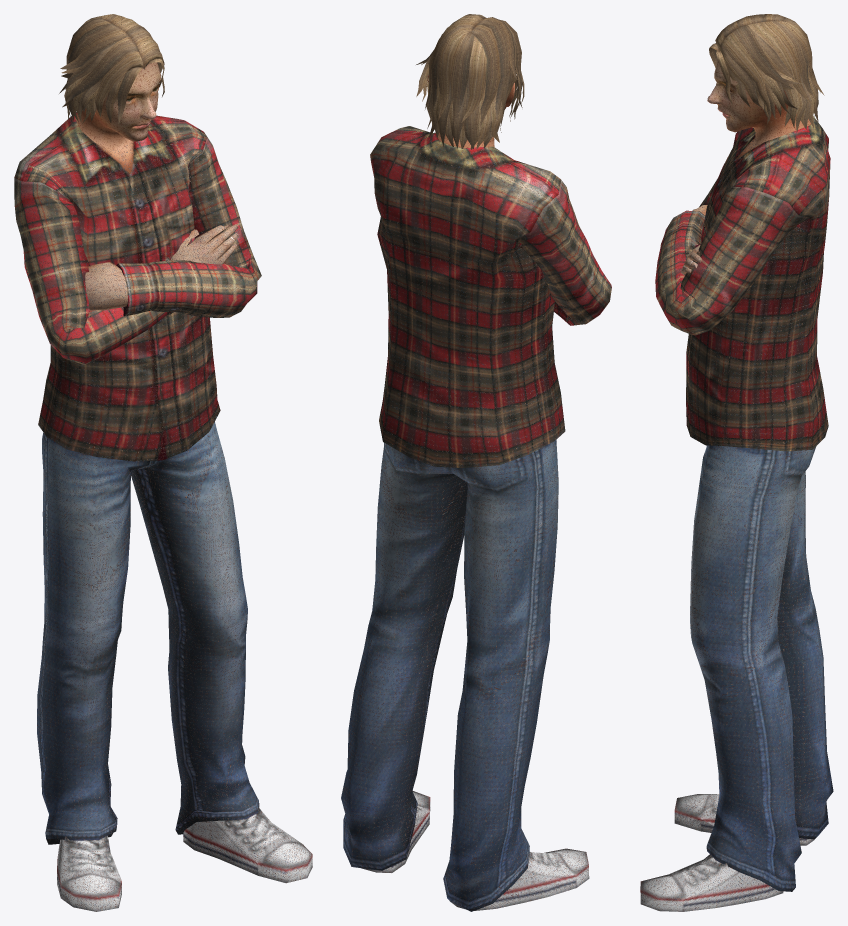
Rendered from male3.obj.
3 views of the same model, side by side, from view 1: azimuth 30°, elevation 25°; view 2: azimuth 150°, elevation 25°; view 3: azimuth 270°, elevation 25° (orthographic). The views are drawn at different scales.
Parts seen in each view (by area): view 1: Extras_Male:Mesh2 Extras_Male:Model Extras_Male:Object01_1 Extra, Extras_Male:Mesh3 Extras_Male:Model Extras_Male:Object01_1 Extra, Extras_Male:Mesh1 Extras_Male:Model Extras_Male:Object01_1 Extra, Extras_Male:Mesh50 Extras_Male:Model Extras_Male:Object01_1 Extr, Extras_Male:Mesh4 Extras_Male:Model Extras_Male:Object01_1 Extra, Extras_Male:Mesh6 Extras_Male:Model Extras_Male:Object01_1 Extra, Extras_Male:Mesh5 Extras_Male:Model Extras_Male:Object01_1 Extra, Extras_Male:Mesh12 Extras_Male:Model Extras_Male:Object01_1 Extr; view 2: Extras_Male:Mesh3 Extras_Male:Model Extras_Male:Object01_1 Extra, Extras_Male:Mesh2 Extras_Male:Model Extras_Male:Object01_1 Extra, Extras_Male:Mesh50 Extras_Male:Model Extras_Male:Object01_1 Extr, Extras_Male:Mesh4 Extras_Male:Model Extras_Male:Object01_1 Extra, Extras_Male:Mesh1 Extras_Male:Model Extras_Male:Object01_1 Extra, Extras_Male:Mesh33 Extras_Male:Model Extras_Male:Object01_1 Extr; view 3: Extras_Male:Mesh3 Extras_Male:Model Extras_Male:Object01_1 Extra, Extras_Male:Mesh2 Extras_Male:Model Extras_Male:Object01_1 Extra, Extras_Male:Mesh50 Extras_Male:Model Extras_Male:Object01_1 Extr, Extras_Male:Mesh1 Extras_Male:Model Extras_Male:Object01_1 Extra, Extras_Male:Mesh4 Extras_Male:Model Extras_Male:Object01_1 Extra, Extras_Male:Mesh12 Extras_Male:Model Extras_Male:Object01_1 Extr.
Part boxes in pixels (x1=…): Extras_Male:Mesh2 Extras_Male:Model Extras_Male:Object01_1 Extra: x1=14, y1=62, x2=261, y2=461; Extras_Male:Mesh3 Extras_Male:Model Extras_Male:Object01_1 Extra: x1=37, y1=422, x2=259, y2=844; Extras_Male:Mesh1 Extras_Male:Model Extras_Male:Object01_1 Extra: x1=183, y1=807, x2=312, y2=883; Extras_Male:Mesh50 Extras_Male:Model Extras_Male:Object01_1 Extr: x1=59, y1=14, x2=164, y2=116; Extras_Male:Mesh4 Extras_Male:Model Extras_Male:Object01_1 Extra: x1=57, y1=835, x2=121, y2=911; Extras_Male:Mesh6 Extras_Male:Model Extras_Male:Object01_1 Extra: x1=171, y1=224, x2=238, y2=264; Extras_Male:Mesh5 Extras_Male:Model Extras_Male:Object01_1 Extra: x1=85, y1=262, x2=127, y2=310; Extras_Male:Mesh12 Extras_Male:Model Extras_Male:Object01_1 Extr: x1=117, y1=58, x2=164, y2=123; Extras_Male:Mesh3 Extras_Male:Model Extras_Male:Object01_1 Extra: x1=341, y1=440, x2=558, y2=911; Extras_Male:Mesh2 Extras_Male:Model Extras_Male:Object01_1 Extra: x1=370, y1=53, x2=611, y2=467; Extras_Male:Mesh50 Extras_Male:Model Extras_Male:Object01_1 Extr: x1=416, y1=14, x2=522, y2=126; Extras_Male:Mesh4 Extras_Male:Model Extras_Male:Object01_1 Extra: x1=450, y1=848, x2=589, y2=910; Extras_Male:Mesh1 Extras_Male:Model Extras_Male:Object01_1 Extra: x1=362, y1=791, x2=430, y2=872; Extras_Male:Mesh33 Extras_Male:Model Extras_Male:Object01_1 Extr: x1=463, y1=79, x2=485, y2=148; Extras_Male:Mesh3 Extras_Male:Model Extras_Male:Object01_1 Extra: x1=690, y1=445, x2=833, y2=891; Extras_Male:Mesh2 Extras_Male:Model Extras_Male:Object01_1 Extra: x1=655, y1=59, x2=830, y2=451; Extras_Male:Mesh50 Extras_Male:Model Extras_Male:Object01_1 Extr: x1=715, y1=14, x2=824, y2=112; Extras_Male:Mesh1 Extras_Male:Model Extras_Male:Object01_1 Extra: x1=640, y1=854, x2=783, y2=911; Extras_Male:Mesh4 Extras_Male:Model Extras_Male:Object01_1 Extra: x1=674, y1=794, x2=813, y2=845; Extras_Male:Mesh12 Extras_Male:Model Extras_Male:Object01_1 Extr: x1=709, y1=43, x2=732, y2=104.
Bounding box in the file's own units: 55.75 × 184 × 39.09.
Materials: 5 (3 with a texture image).
